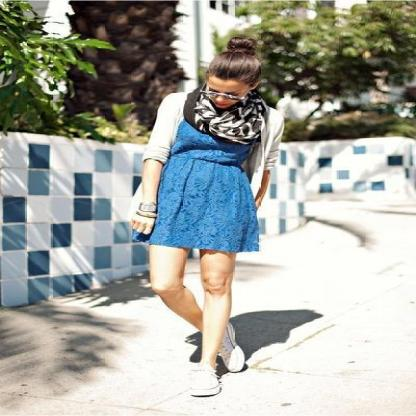dress: (137, 119, 259, 257)
jacket: (251, 146, 285, 174)
shirt: (137, 95, 286, 157)
shoe: (183, 330, 236, 394)
